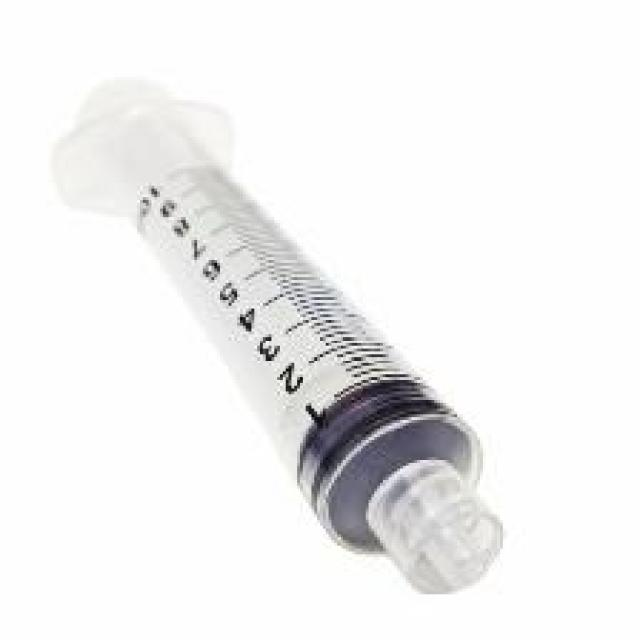syringe: (51, 63, 555, 620)
